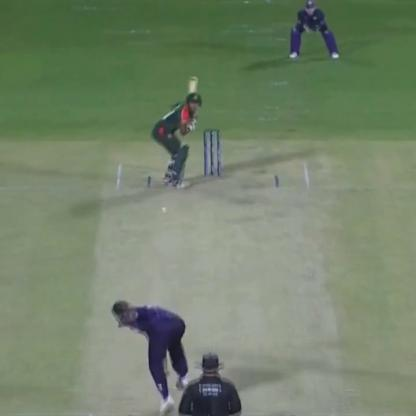ball: (160, 206, 168, 213)
bat: (185, 70, 199, 113)
pitch: (86, 150, 358, 415)
